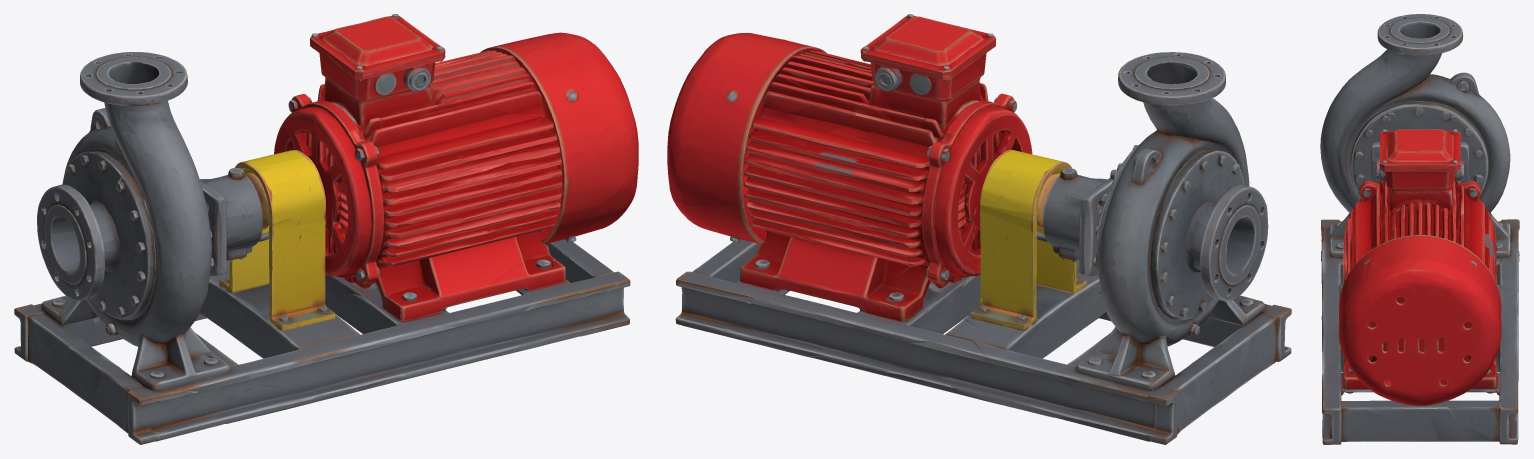
The model's file is pompa_rossa.glb.
3 views of the same model, side by side, from view 1: azimuth 30°, elevation 25°; view 2: azimuth 150°, elevation 25°; view 3: azimuth 270°, elevation 25° (orthographic). The views are drawn at different scales.
Parts seen in each view (by area): view 1: Mesh_0; view 2: Mesh_0; view 3: Mesh_0.
Boxes of the visible parts, x1,y1,x2,y2 form: Mesh_0: (14, 14, 638, 444); Mesh_0: (667, 14, 1291, 444); Mesh_0: (1320, 14, 1519, 444).
Bounding box in the file's own units: 1.9 × 1.07 × 0.7771.
Materials: 1 (1 with a texture image).
